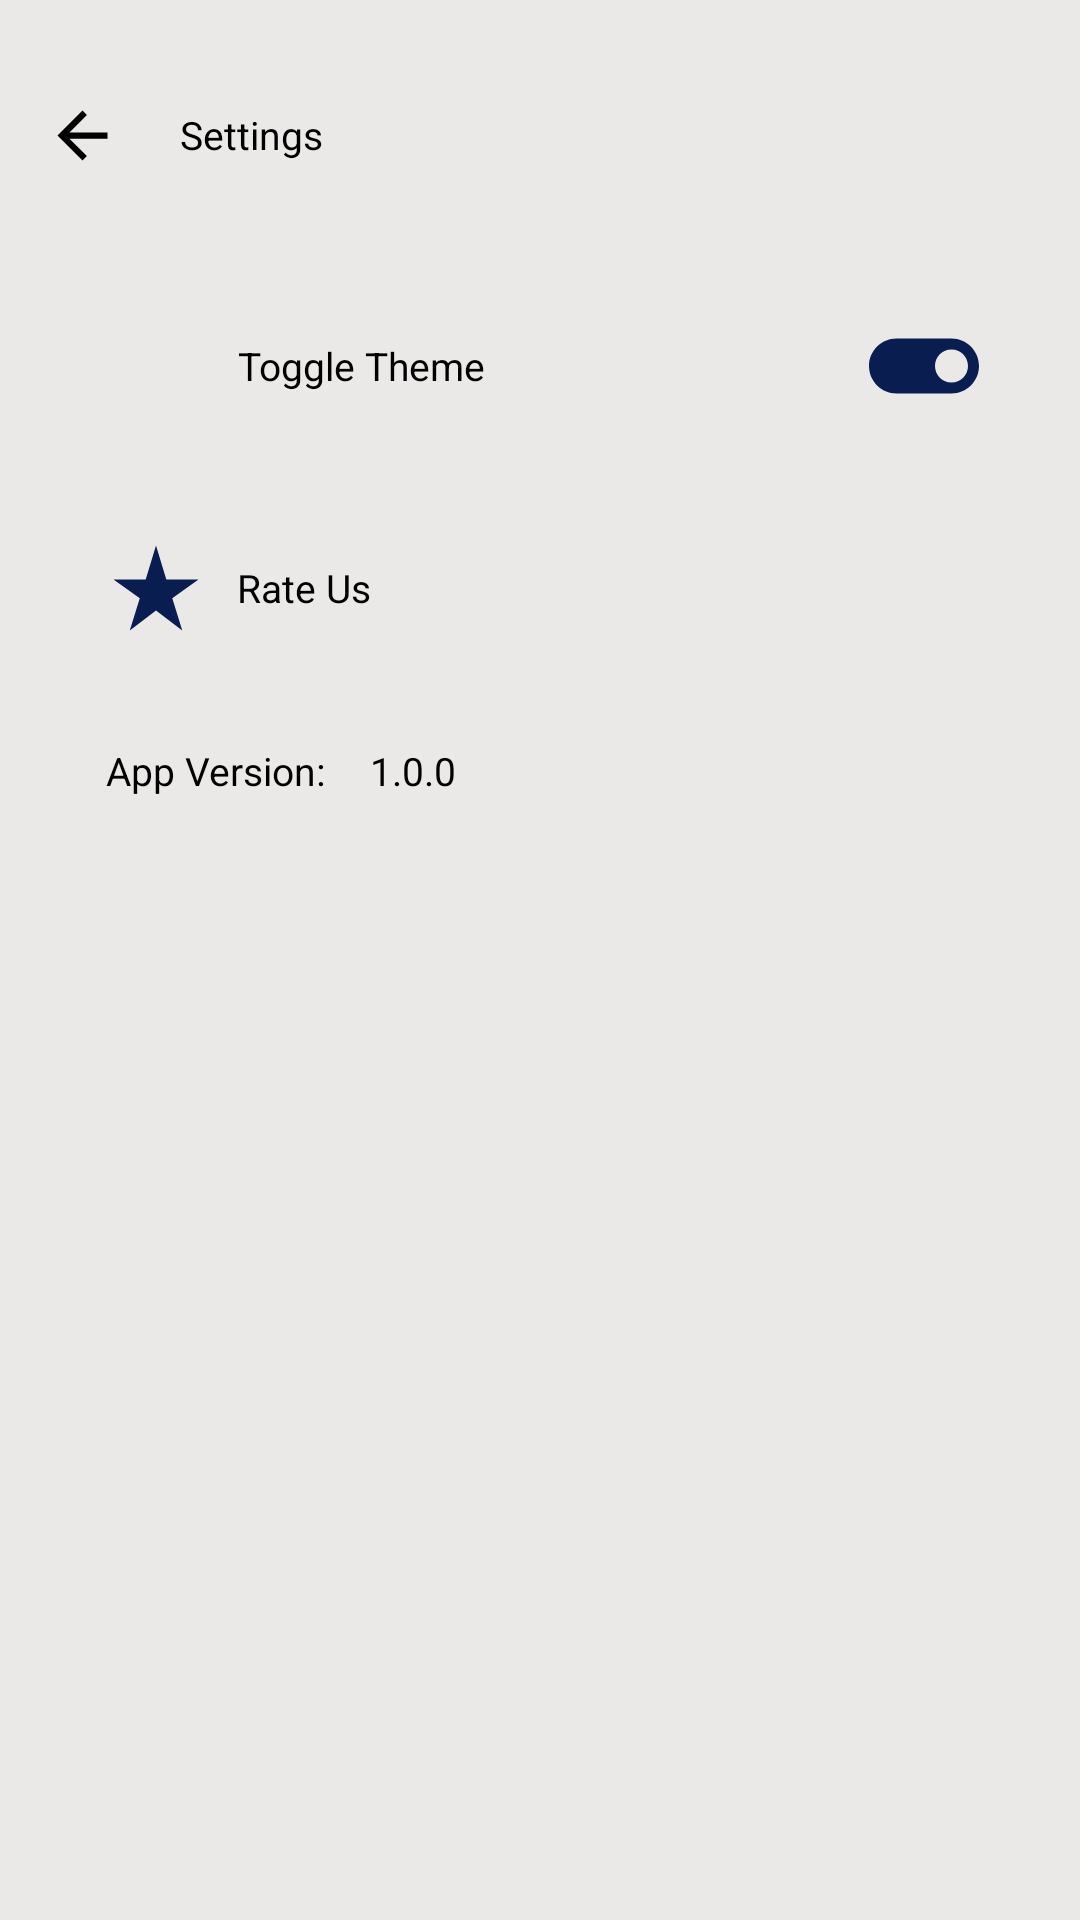

Named icons in this screenshot (1080x1920) and their centers, point (x, y):
back: point (82, 135)
star rate: point (156, 588)
toggle on: point (924, 366)
